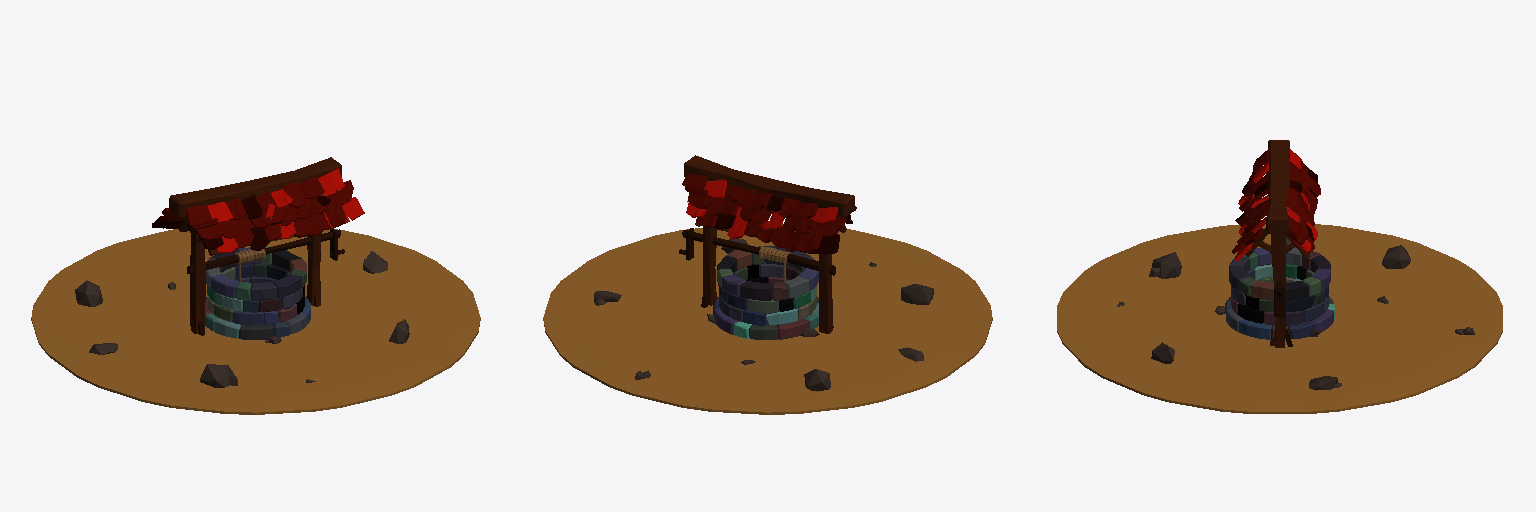
File: Well.obj
3 renders of one model, left to right at view 1: azimuth 30°, elevation 25°; view 2: azimuth 150°, elevation 25°; view 3: azimuth 270°, elevation 25°, orthographic.
Parts seen in each view (by area): view 1: Floor_Cylinder, Roof_Tiles_Back_Side_Plane.051, Up_Tile_Holder_Cube.027, Rocks_Icosphere, Right_Plank_Cube.004, Left_Plank_Cube.002, Middle_Long_Stick_Cube.005; view 2: Floor_Cylinder, Roof_Tiles_Front_Side_Plane.058, Up_Tile_Holder_Cube.027, Rocks_Icosphere, Right_Plank_Cube.004, Left_Plank_Cube.002, Middle_Long_Stick_Cube.005, Well.045_Cube.072; view 3: Floor_Cylinder, Roof_Tiles_Front_Side_Plane.058, Rocks_Icosphere, Roof_Tiles_Back_Side_Plane.051, Up_Tile_Holder_Cube.027, Left_Plank_Cube.002.
Boxes of the visible parts, x1,y1,x2,y2 form: Floor_Cylinder: [31, 229, 480, 414]; Roof_Tiles_Back_Side_Plane.051: [186, 168, 364, 252]; Up_Tile_Holder_Cube.027: [169, 157, 341, 218]; Rocks_Icosphere: [75, 251, 409, 387]; Right_Plank_Cube.004: [190, 226, 205, 333]; Left_Plank_Cube.002: [307, 233, 321, 305]; Middle_Long_Stick_Cube.005: [187, 229, 340, 273]; Floor_Cylinder: [543, 224, 992, 414]; Roof_Tiles_Front_Side_Plane.058: [682, 174, 846, 254]; Up_Tile_Holder_Cube.027: [684, 155, 854, 217]; Rocks_Icosphere: [594, 238, 933, 391]; Right_Plank_Cube.004: [819, 254, 832, 333]; Left_Plank_Cube.002: [703, 227, 716, 305]; Middle_Long_Stick_Cube.005: [682, 230, 835, 275]; Well.045_Cube.072: [740, 281, 771, 300]; Floor_Cylinder: [1057, 224, 1502, 413]; Roof_Tiles_Front_Side_Plane.058: [1286, 149, 1320, 252]; Rocks_Icosphere: [1117, 236, 1474, 390]; Roof_Tiles_Back_Side_Plane.051: [1232, 149, 1268, 261]; Up_Tile_Holder_Cube.027: [1266, 140, 1289, 233]; Left_Plank_Cube.002: [1271, 234, 1285, 347].
Bounding box in the file's own units: 57.64 × 22.07 × 57.64.